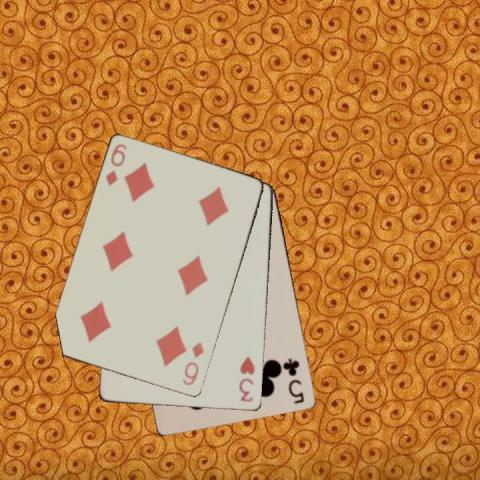3h: (236, 354, 257, 403)
5c: (282, 356, 306, 405)
6d: (180, 340, 206, 388), (102, 141, 129, 187)
